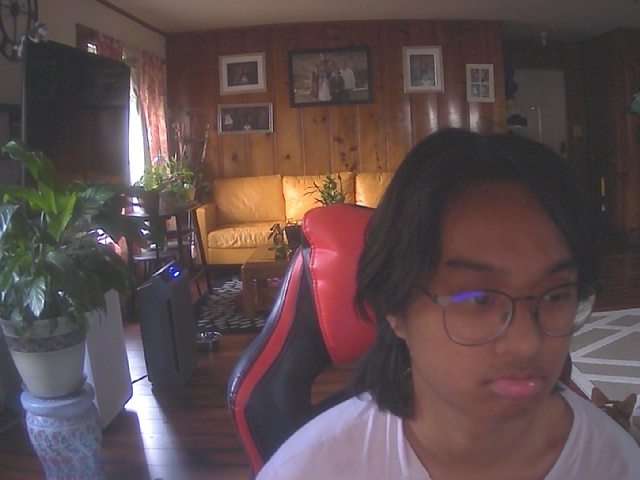sad: (382, 153, 604, 427)
